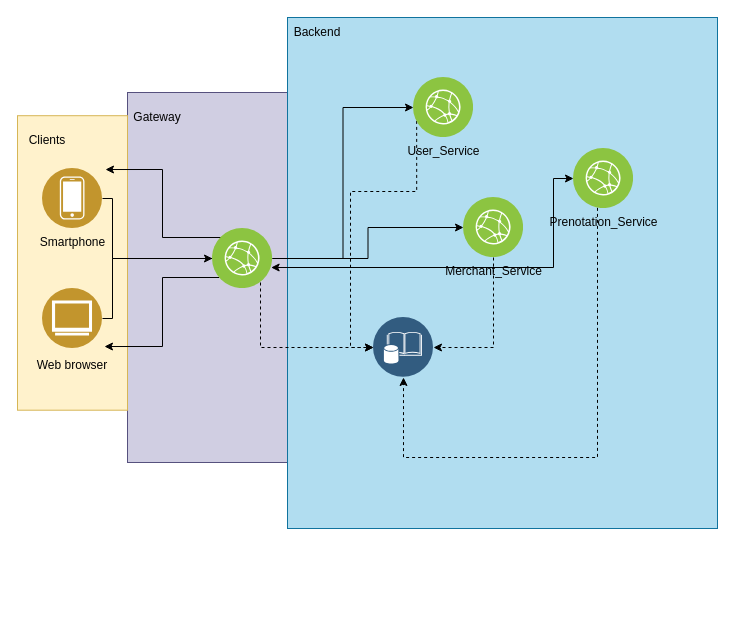
Some shapes in this 735 by 626 pixel diagram are drawn without their labels. The shapes that lost their labels are listed below. From the top down, each one's box as (x1, y1, x2, y2) in pixels, then its label:
(212, 228, 272, 288): Auth_Service
(373, 317, 433, 377): CEPOSTO_DB
